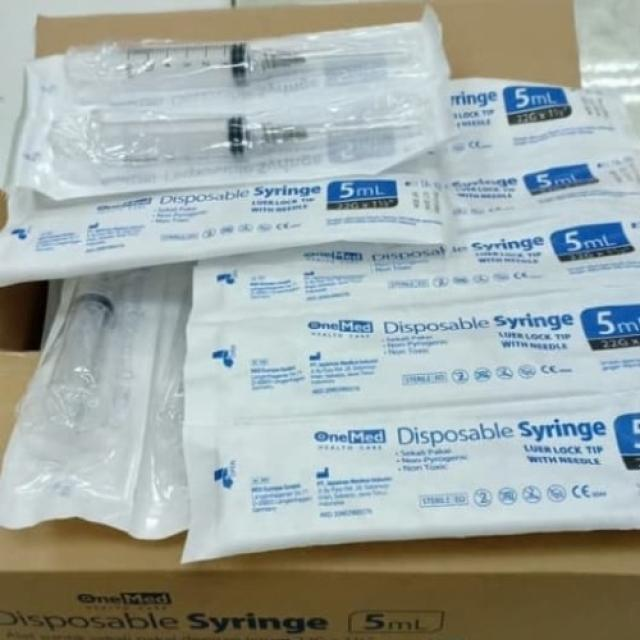B3: (46, 13, 458, 107), (10, 268, 151, 514), (31, 92, 471, 166)
